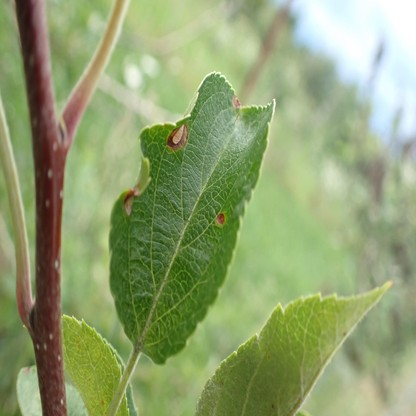frogeye_leaf_spot: (168, 124, 188, 149), (125, 191, 137, 214), (215, 214, 225, 226), (232, 94, 240, 107)
